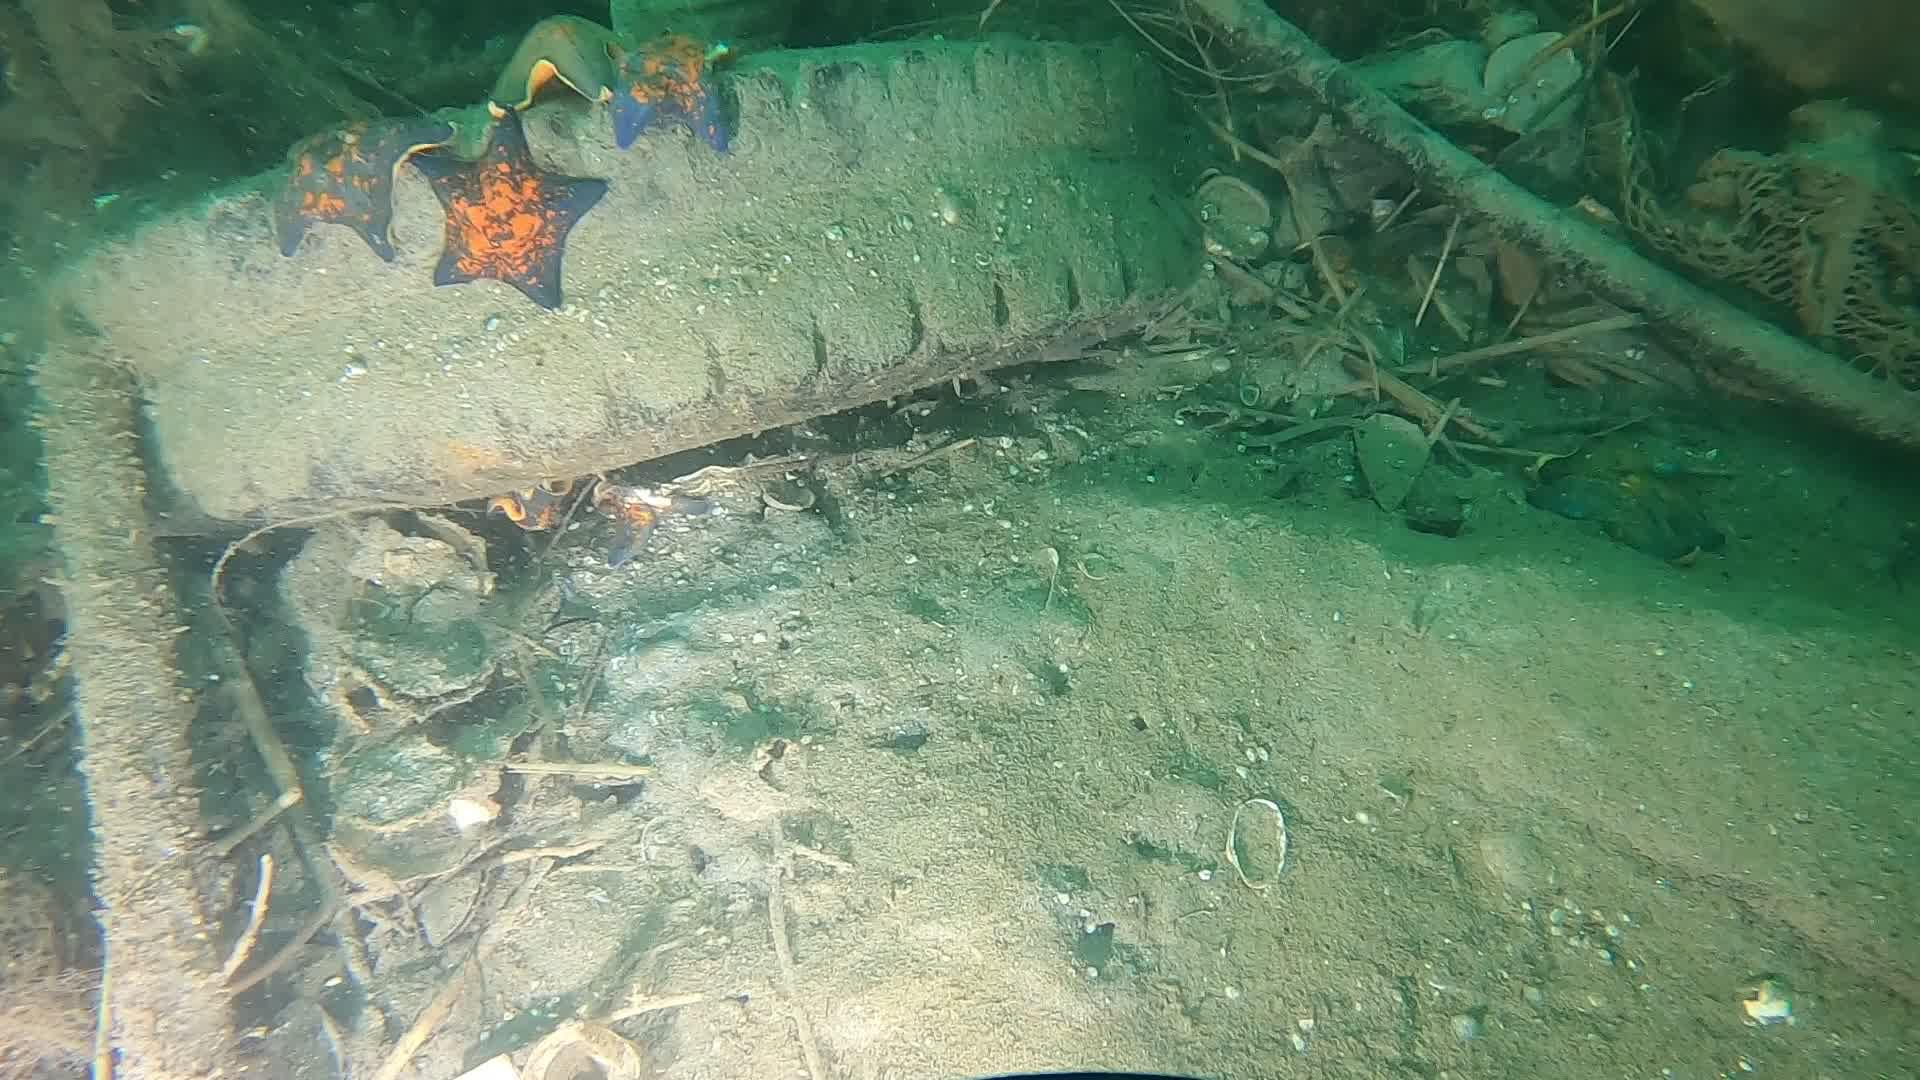fish net: (1609, 78, 1920, 386)
tire: (36, 37, 1192, 525)
